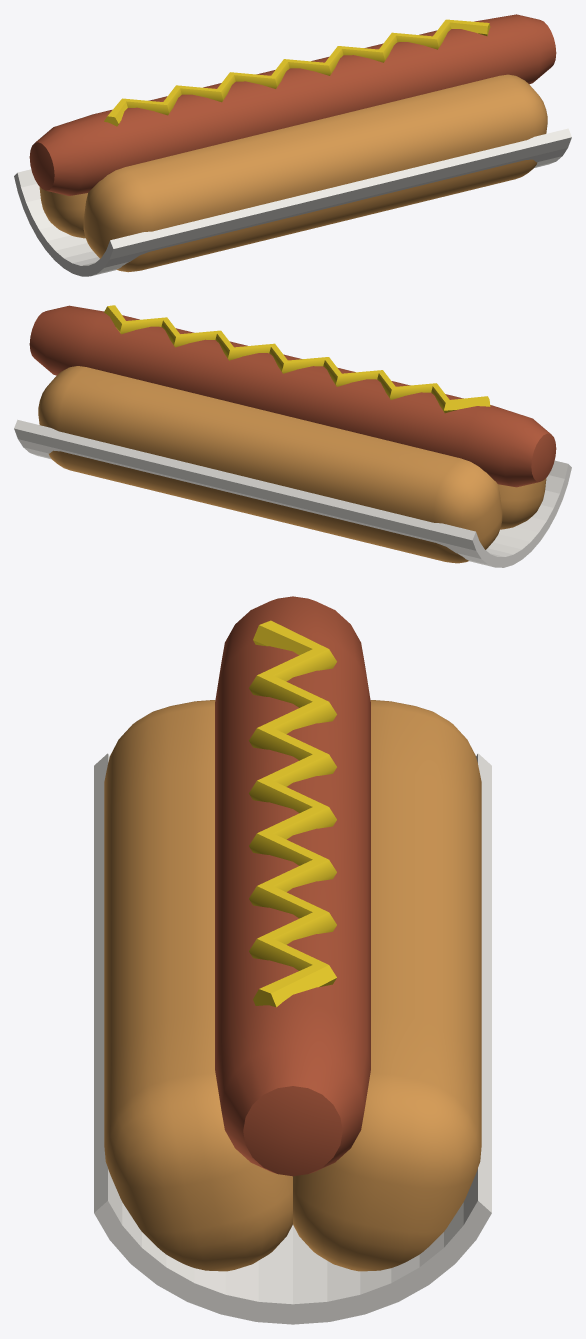
File: food_hotdog.glb
3 views of the same model, one above another, from view 1: azimuth 30°, elevation 25°; view 2: azimuth 150°, elevation 25°; view 3: azimuth 270°, elevation 25° (orthographic). The views are drawn at different scales.
Parts seen in each view (by area): view 1: Bun_LOD0, Sausage_LOD0, Sleeve_LOD0, Mustard_LOD0, Bun_LOD0.001; view 2: Bun_LOD0.001, Sausage_LOD0, Sleeve_LOD0, Mustard_LOD0, Bun_LOD0; view 3: Sausage_LOD0, Bun_LOD0, Bun_LOD0.001, Sleeve_LOD0, Mustard_LOD0.
Boxes of the visible parts, box(x1,y1,x2,y2) form: Bun_LOD0: box(83, 74, 547, 272); Sausage_LOD0: box(29, 14, 556, 195); Sleeve_LOD0: box(14, 128, 571, 276); Mustard_LOD0: box(104, 19, 490, 126); Bun_LOD0.001: box(39, 186, 87, 238); Bun_LOD0.001: box(38, 366, 502, 563); Sausage_LOD0: box(29, 305, 556, 487); Sleeve_LOD0: box(14, 419, 571, 567); Mustard_LOD0: box(104, 305, 490, 413); Bun_LOD0: box(498, 478, 546, 529); Sausage_LOD0: box(215, 596, 370, 1176); Bun_LOD0: box(104, 700, 292, 1271); Bun_LOD0.001: box(292, 700, 481, 1271); Sleeve_LOD0: box(94, 753, 491, 1324); Mustard_LOD0: box(249, 620, 336, 1007).
Size of the model in its own units: 0.19 by 0.0521 by 0.0639.
